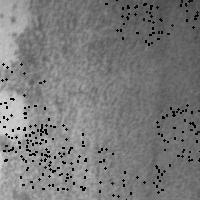pitted_surface: (1, 1, 200, 200), (11, 124, 70, 184), (25, 131, 85, 188), (57, 147, 112, 200), (0, 103, 47, 160), (0, 63, 48, 118), (155, 108, 200, 166), (105, 0, 160, 43), (158, 104, 200, 160), (143, 0, 200, 34), (109, 169, 169, 200)
